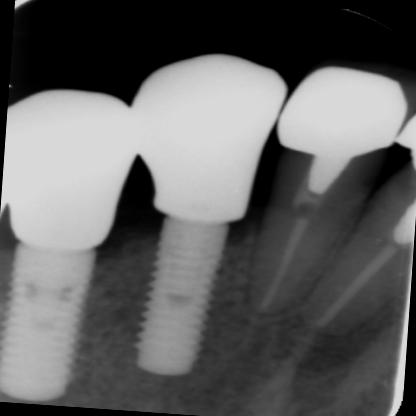ITI: (129, 216, 235, 392), (0, 237, 94, 407)
